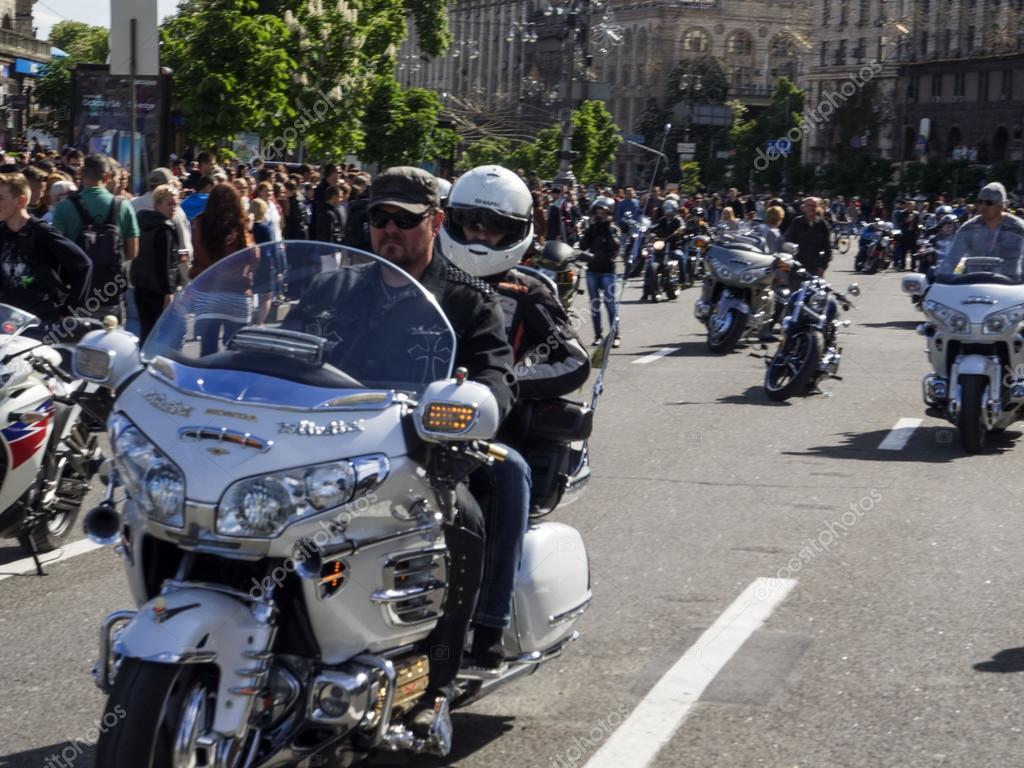helmet: (438, 166, 540, 282)
